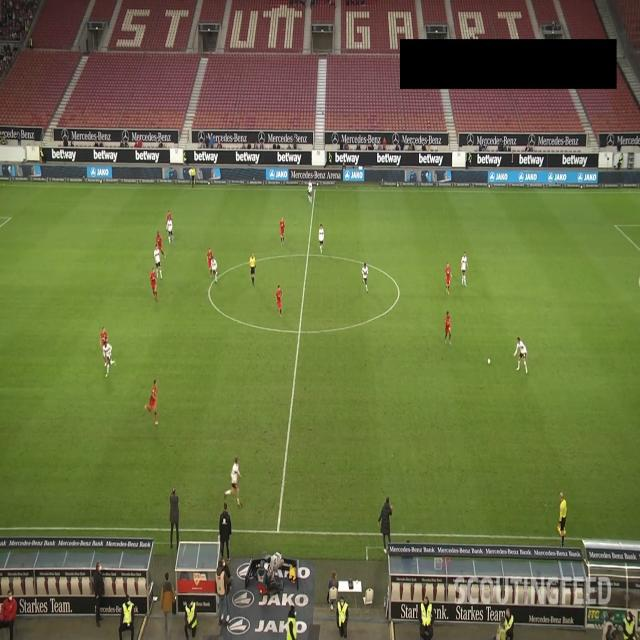ball: (487, 357, 491, 365)
